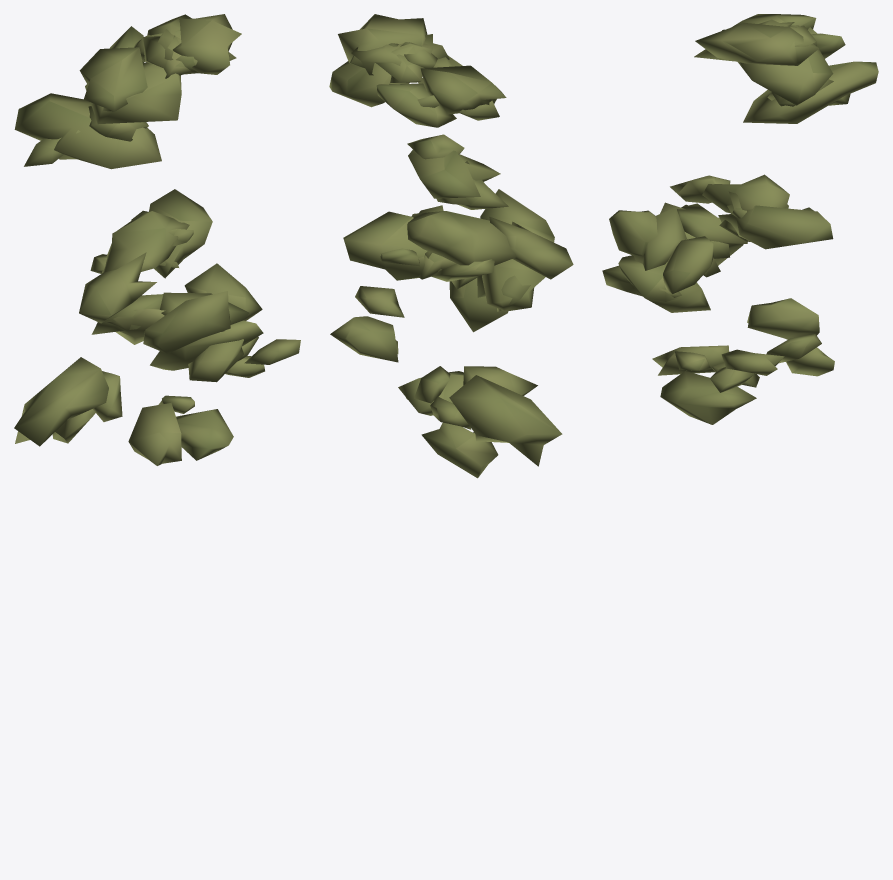
Rendered from baum-buche-0-fern.glb.
The picture shows the model from 3 angles, left to right: view 1: azimuth 30°, elevation 25°; view 2: azimuth 150°, elevation 25°; view 3: azimuth 270°, elevation 25°; orthographic projection.
Visible parts, largest first — view 1: Baum_Stamm.001; view 2: Baum_Stamm.001; view 3: Baum_Stamm.001.
Part boxes in pixels (box(x1,y1,x2,y2)): Baum_Stamm.001: box(14, 14, 300, 465); Baum_Stamm.001: box(329, 14, 573, 478); Baum_Stamm.001: box(602, 14, 878, 424).
Bounding box in the file's own units: 9.34 × 30.2 × 9.07.
